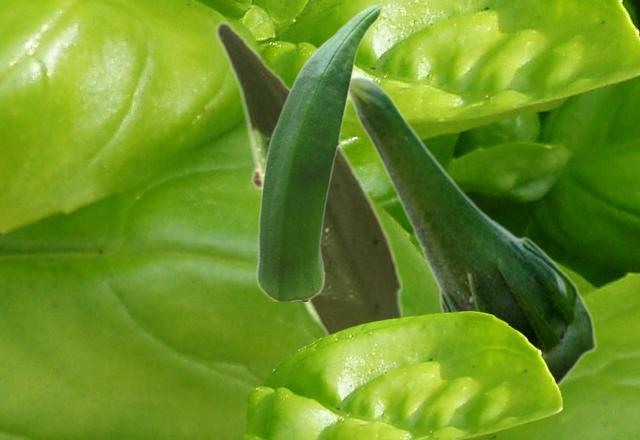okra: (348, 75, 596, 386), (214, 19, 401, 335), (255, 3, 382, 300)
